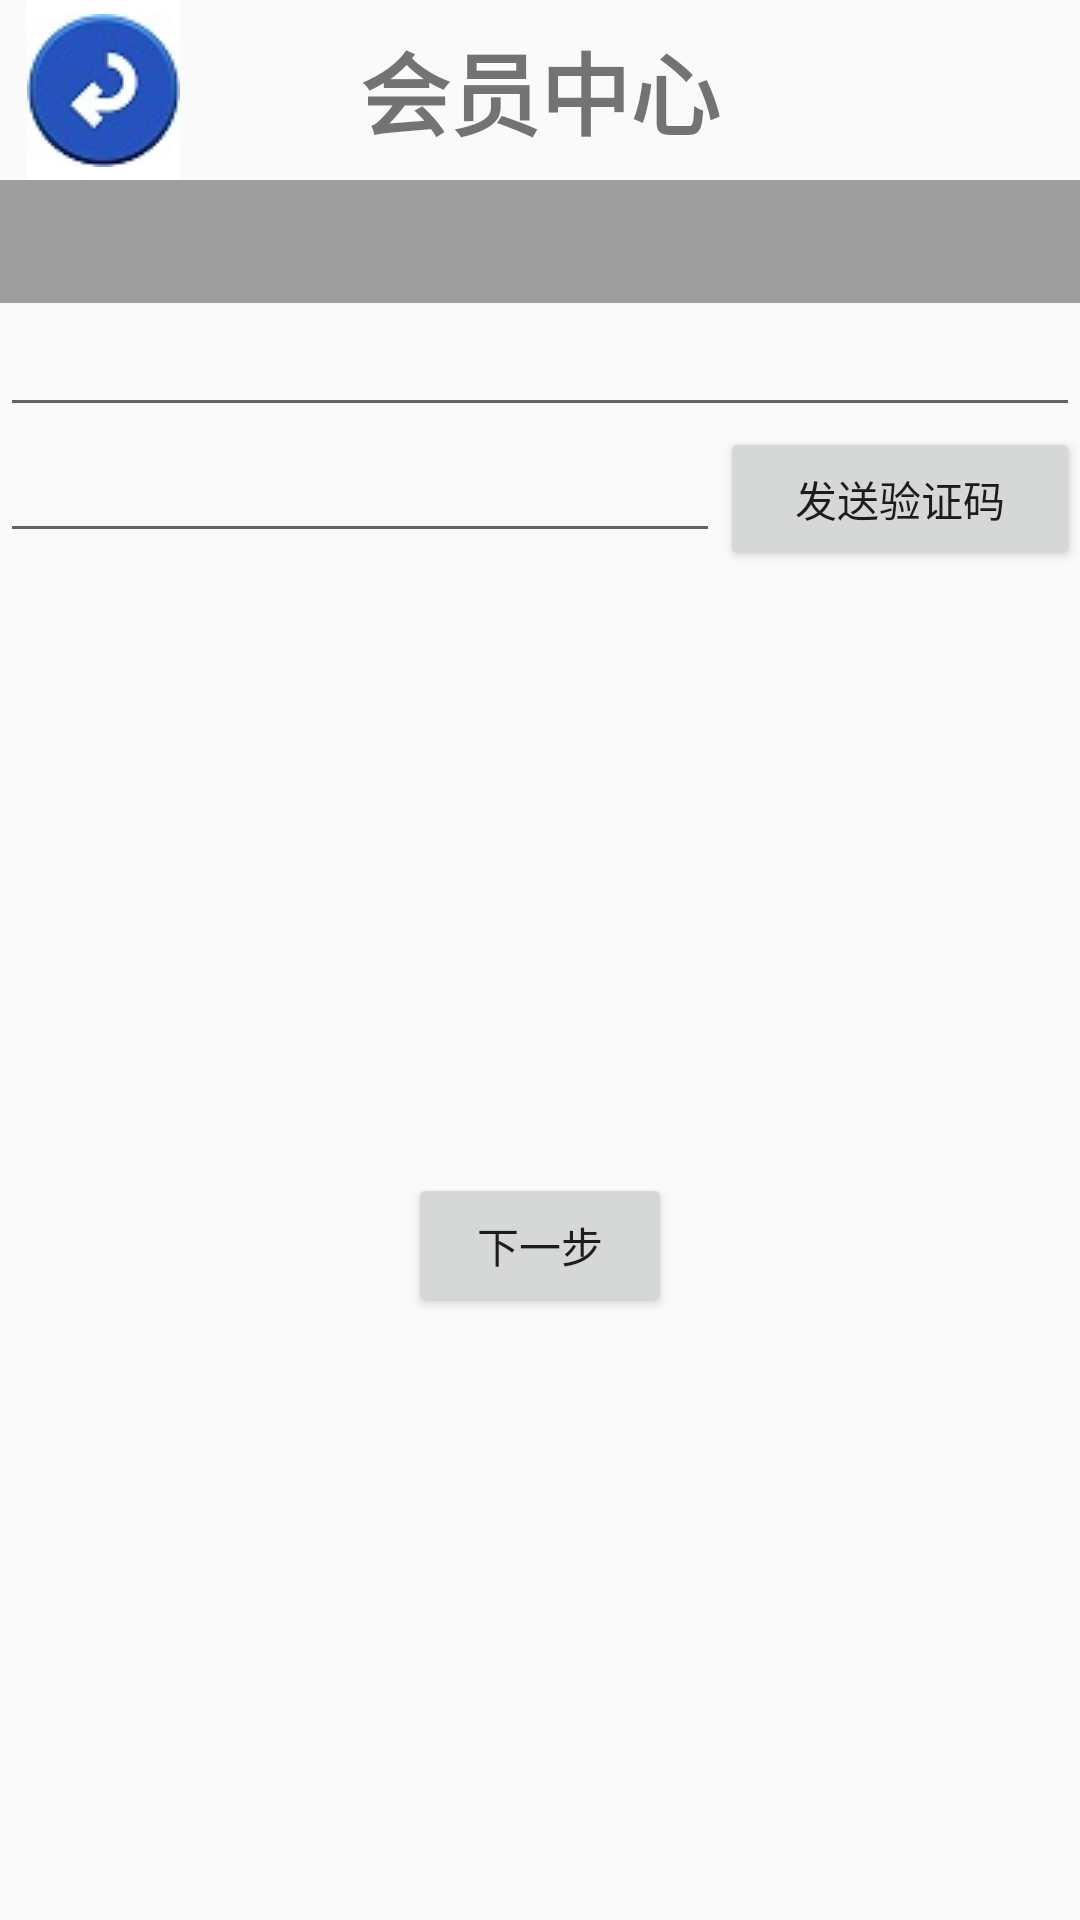

Named icons in this screenshot (1080 x 1920) and their bounding boxes, (x1, y1, x2, y2):
fanhui: (27, 14, 180, 167)
